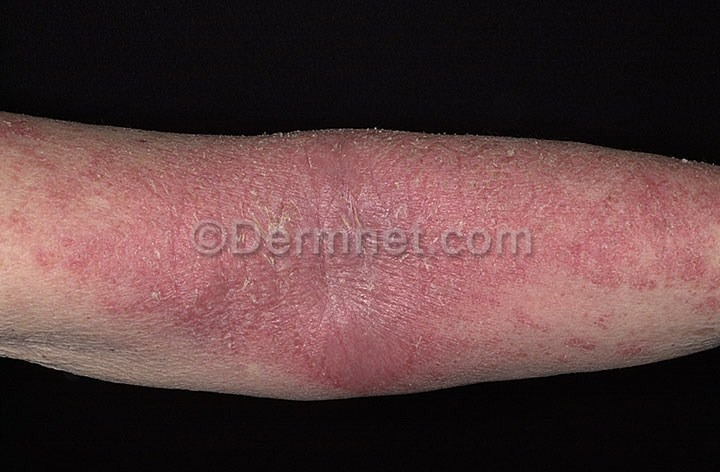Eczema: (9, 112, 720, 393)
